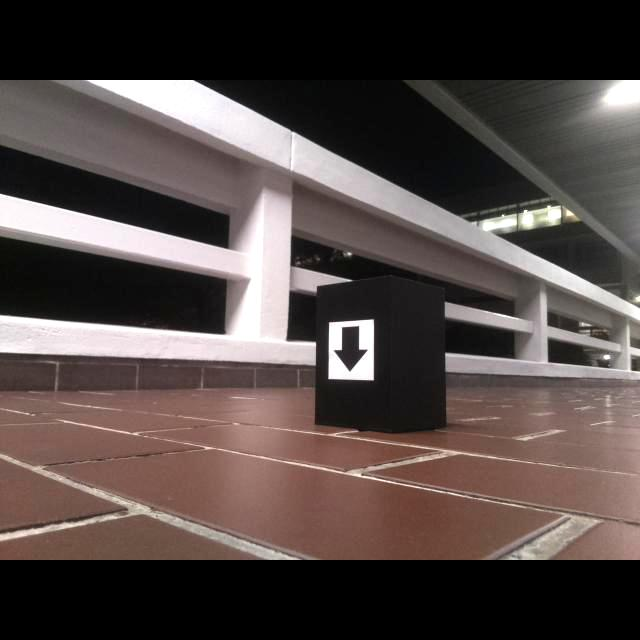DOWN: (332, 325, 369, 373)
